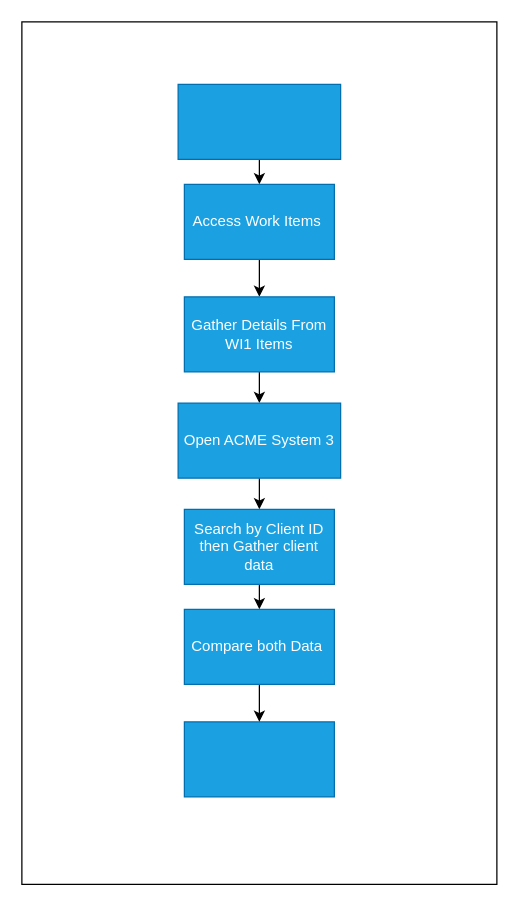
The diagram is 519 pixels wide and 906 high, and some of its shapes have lost their labels. Here are the shapes that lost their labels. From the top down, the centre of each, then its label:
At point 259,121: "Open ACME System 1 then Log in".
At point 258,759: "Update Work Item Status".
